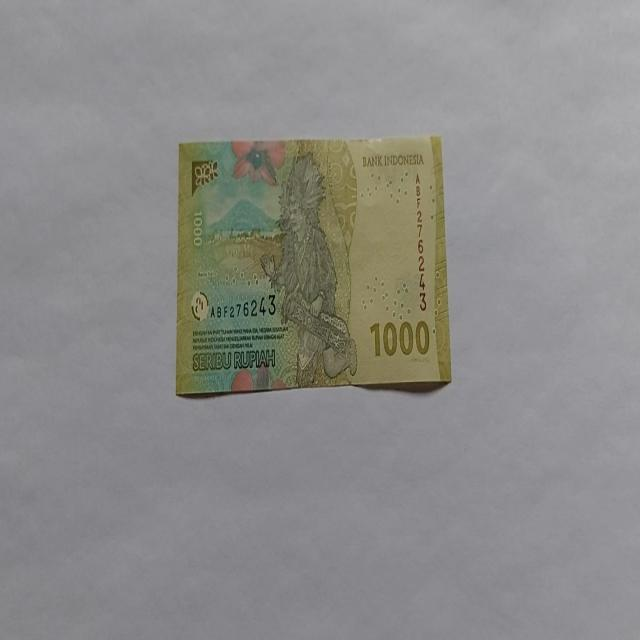seribu rupiah kertas: (175, 134, 452, 396)
